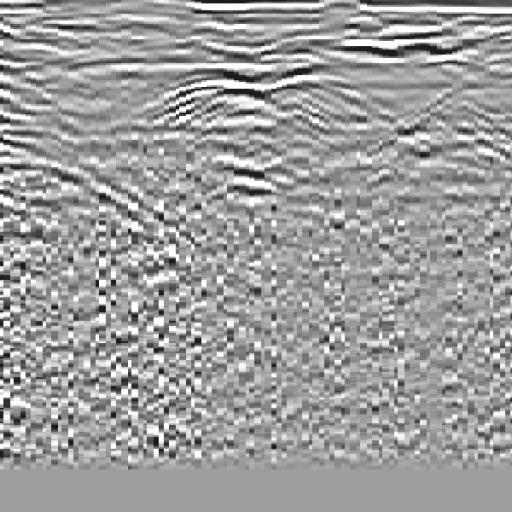metalic: (118, 43, 382, 270)
